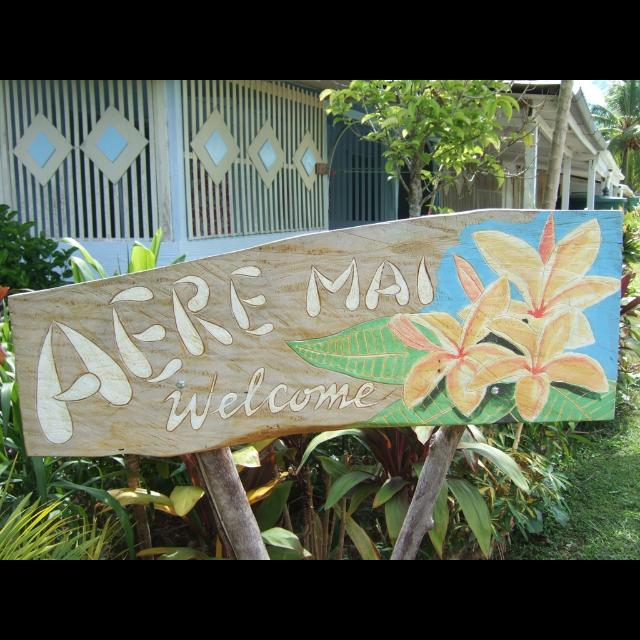Flower: (471, 212, 625, 348), (462, 306, 608, 420), (406, 312, 516, 414), (453, 250, 533, 342), (0, 286, 8, 300)
